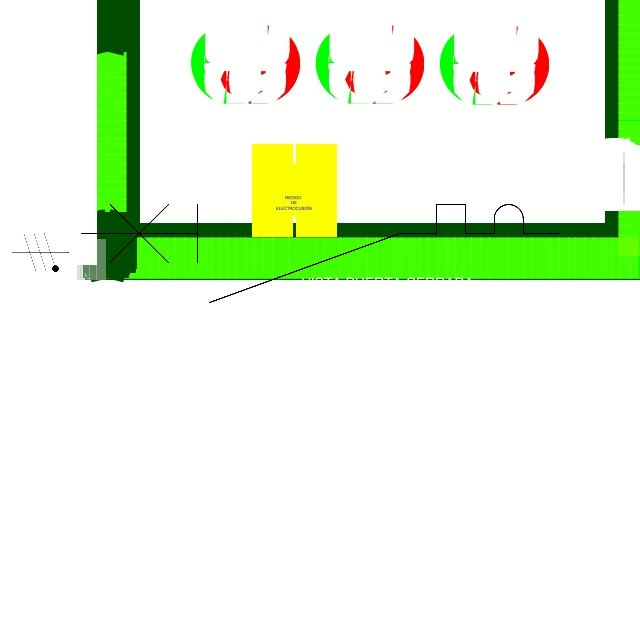interruptor_termomagnetico: (68, 192, 571, 315)
